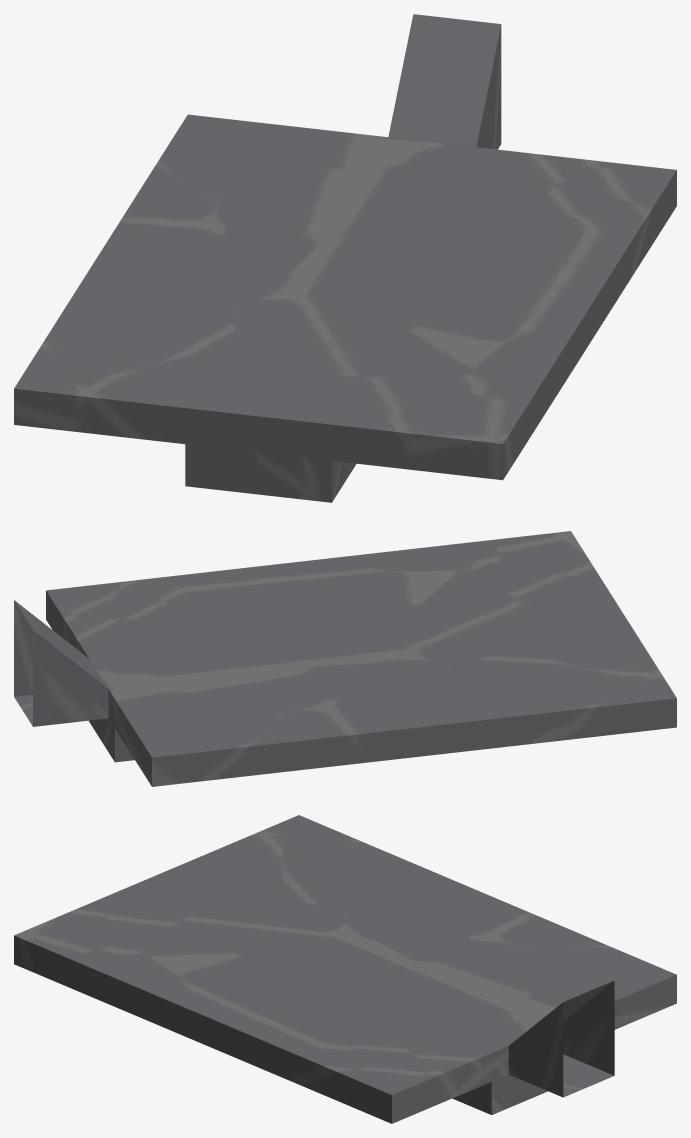
File: field_winter_easy_elevater.fbx
The picture shows the model from 3 angles, top to bottom: view 1: azimuth 30°, elevation 25°; view 2: azimuth 150°, elevation 25°; view 3: azimuth 270°, elevation 25°; orthographic projection. The views are drawn at different scales.
Parts seen in each view (by area): view 1: field_winter_easy_elevater; view 2: field_winter_easy_elevater; view 3: field_winter_easy_elevater.
Boxes of the visible parts, x1,y1,x2,y2 form: field_winter_easy_elevater: (14, 14, 676, 502); field_winter_easy_elevater: (14, 531, 676, 786); field_winter_easy_elevater: (14, 815, 676, 1123).
Size of the model in its own units: 131 by 28.17 by 131.
Materials: 1 (1 with a texture image).
